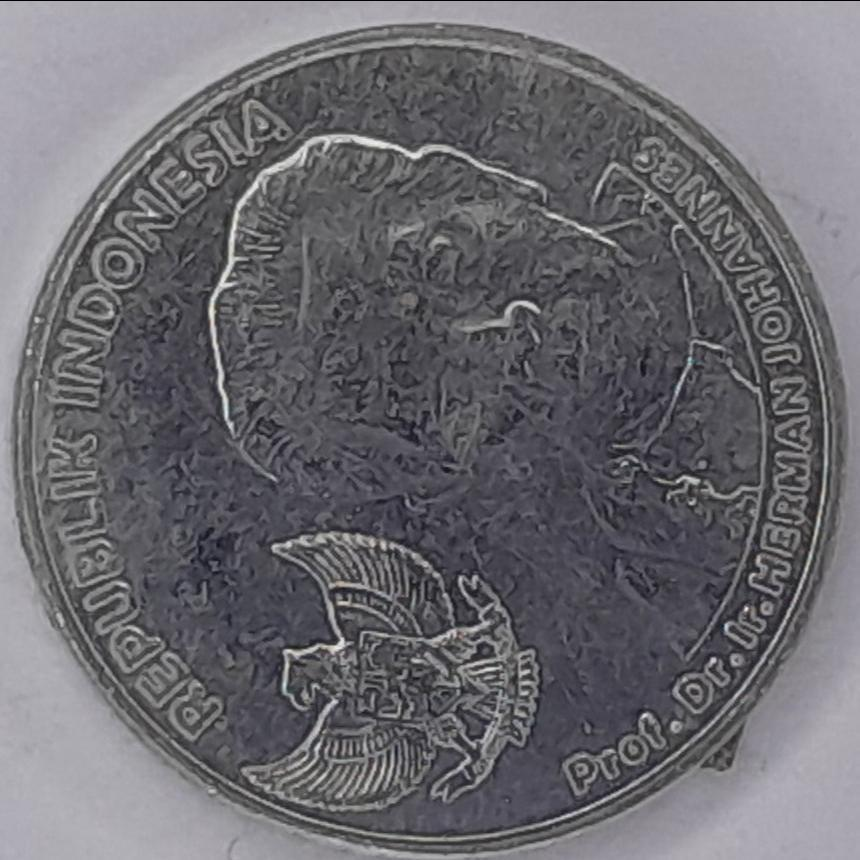coin_100_e2016: (8, 17, 850, 858)
